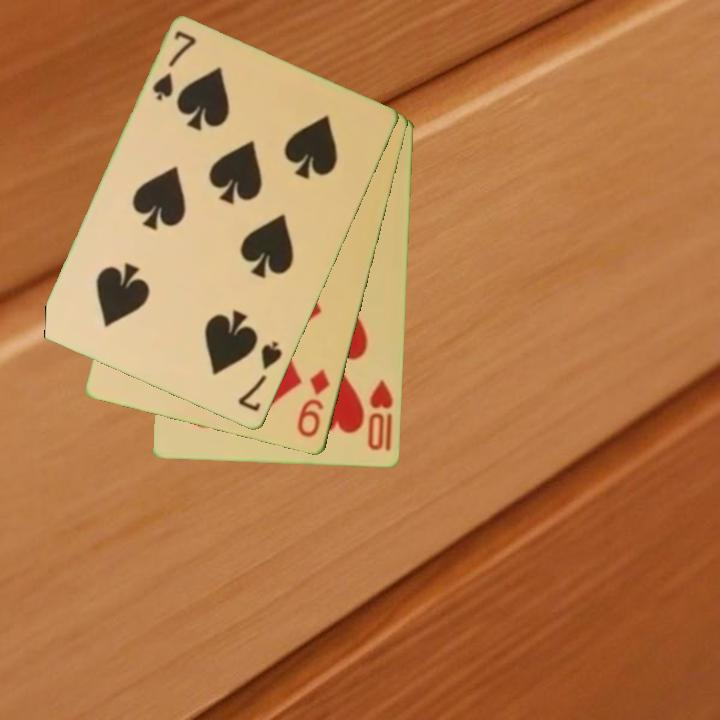10h: (364, 377, 396, 454)
7s: (234, 338, 286, 415), (149, 27, 200, 104)
9d: (294, 366, 333, 441)
